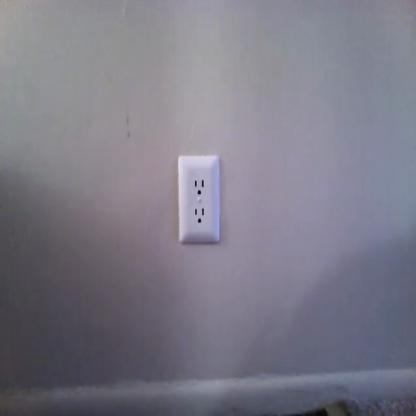OUTLET: (178, 154, 221, 244)
